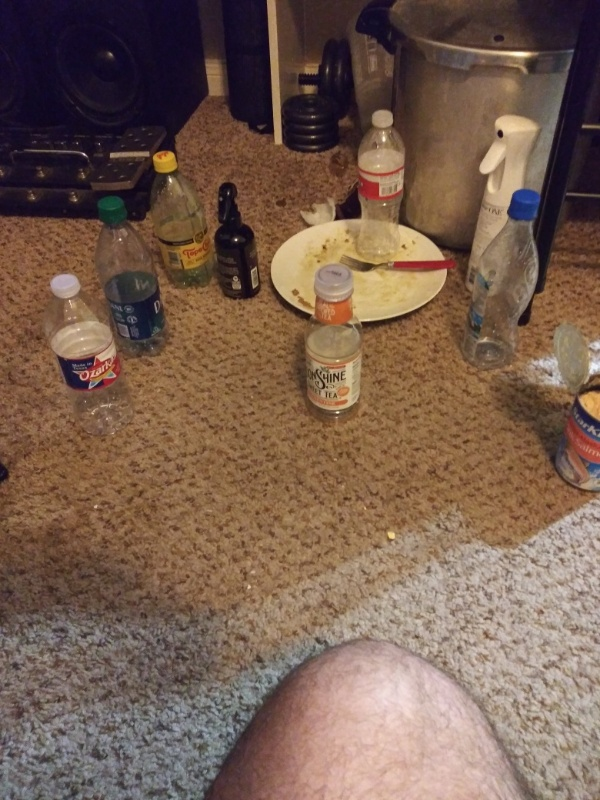bottle: (459, 187, 542, 373), (45, 270, 133, 442), (91, 193, 174, 359), (297, 265, 368, 424), (146, 145, 220, 289), (353, 106, 408, 264)
